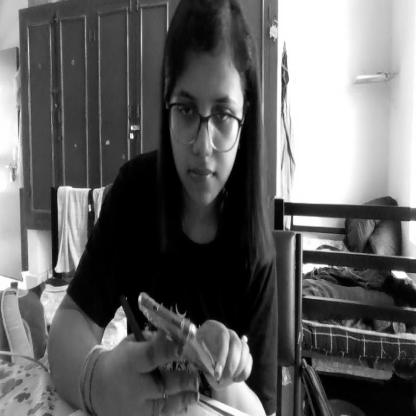Normal: (166, 3, 249, 212)
